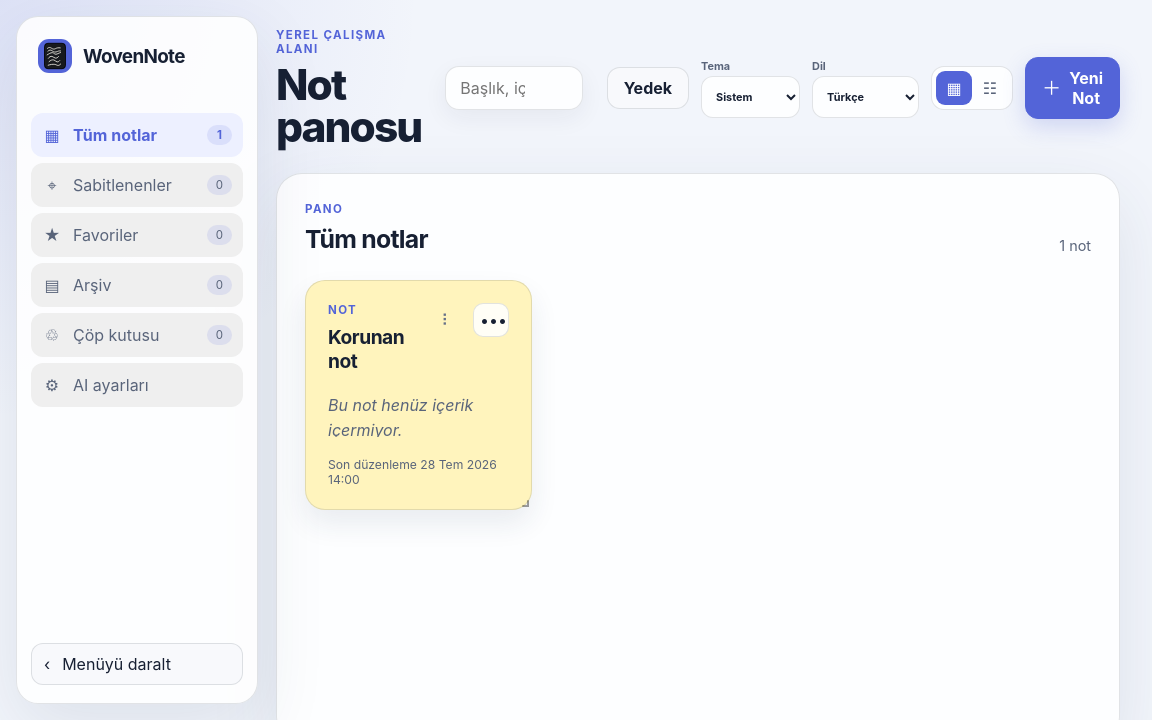
Test case: App note board › keeps editor content visible when an immediate autosave fails
Check: the heading "Korunan not" is shown, box [328,325,404,373]
Click the button named "Korunan not notunu aç" at (418,395), box [306,281,531,509]
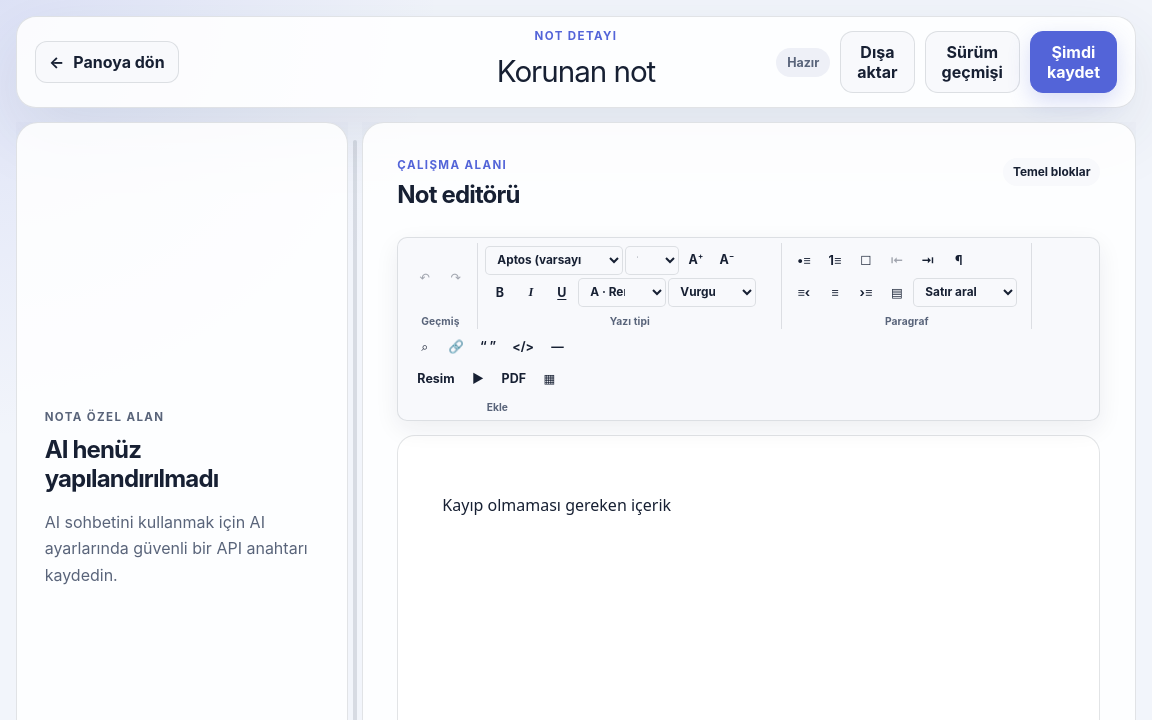
Check: the text box "Kayıp olmaması gereken içerik" is shown, box [442,494,671,516]
Replace the text in the field named "Not başlığı" with "Korunan not güncel" at (576,71), box [316,47,836,95]
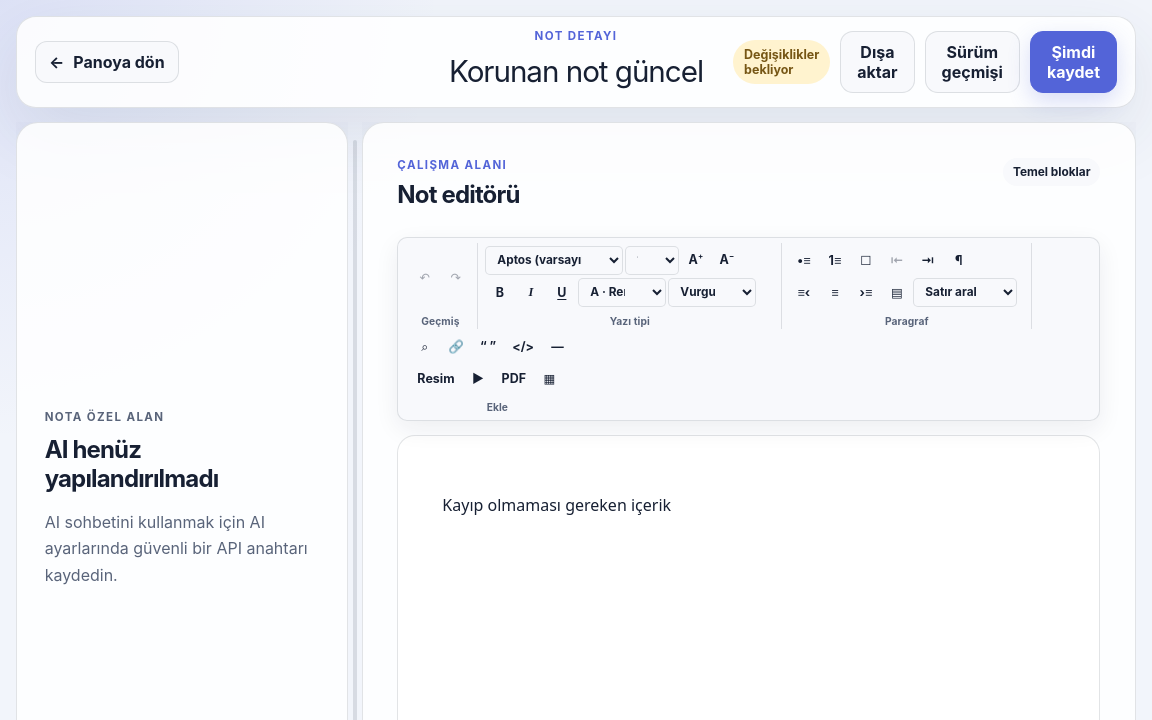
Click the button "Şimdi kaydet" at (1073,62), box [1030,31,1117,93]
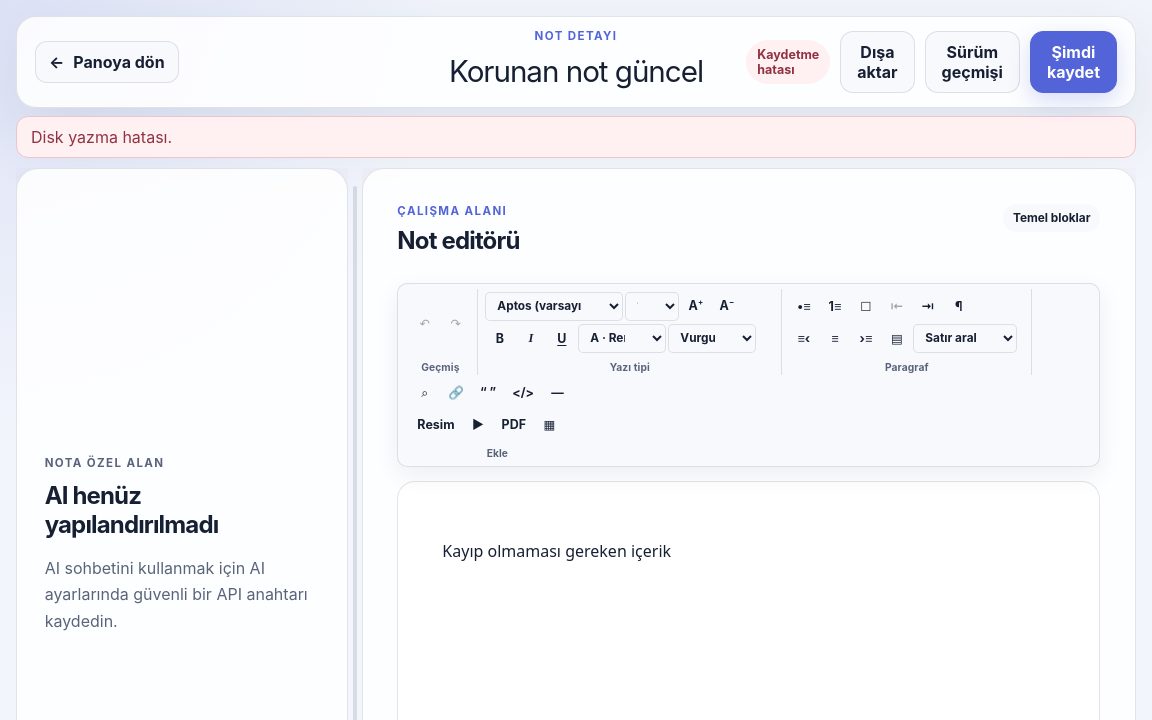
Check: the text box "Kayıp olmaması gereken içerik" is shown, box [442,540,671,562]
Check: the message reads "Disk yazma hatası.", box [31,127,172,147]
